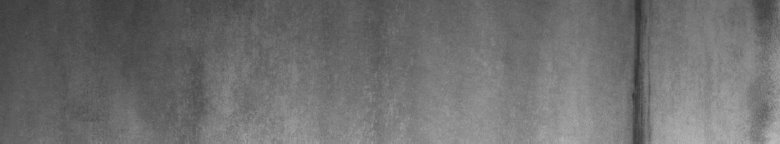hd: (624, 4, 650, 136)
